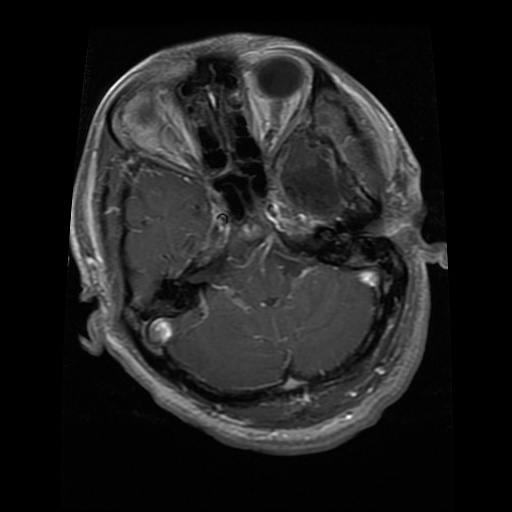glioma: (282, 133, 360, 213)
